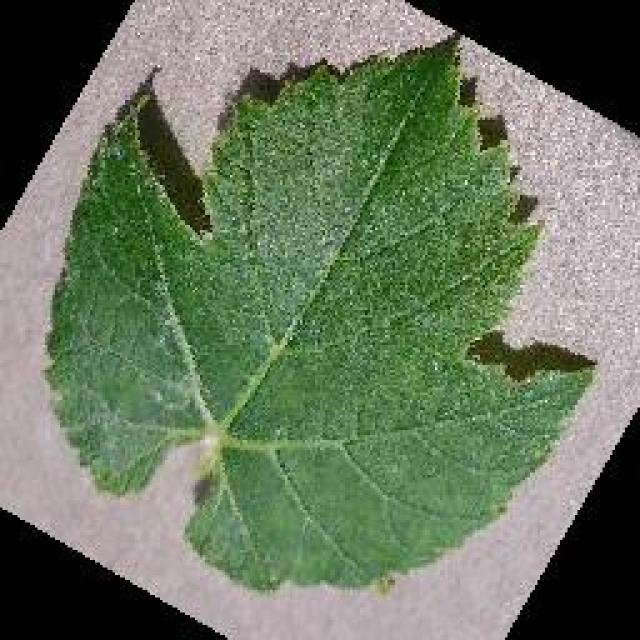Grape___healthy: (50, 42, 590, 585)
